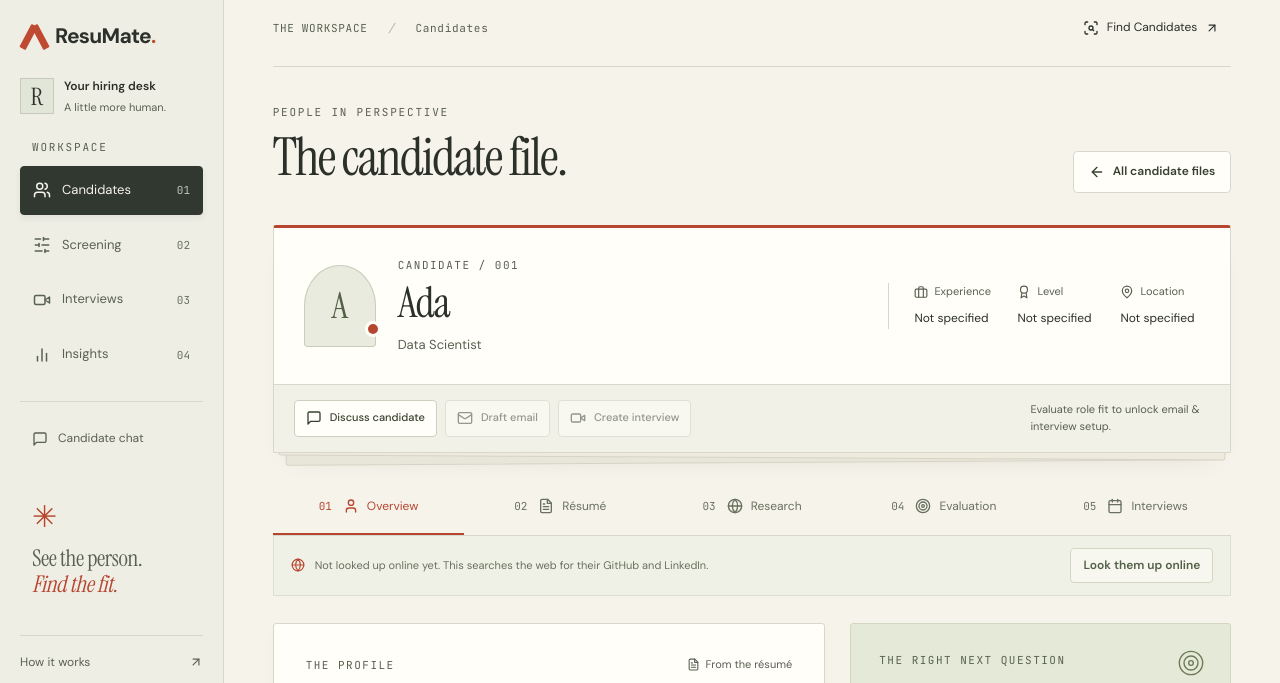
the candidate file › rejects an executable original-file link
Click the button "02 Résumé" at x=560, y=507, box [464,480,656,535]
(page scrolled)
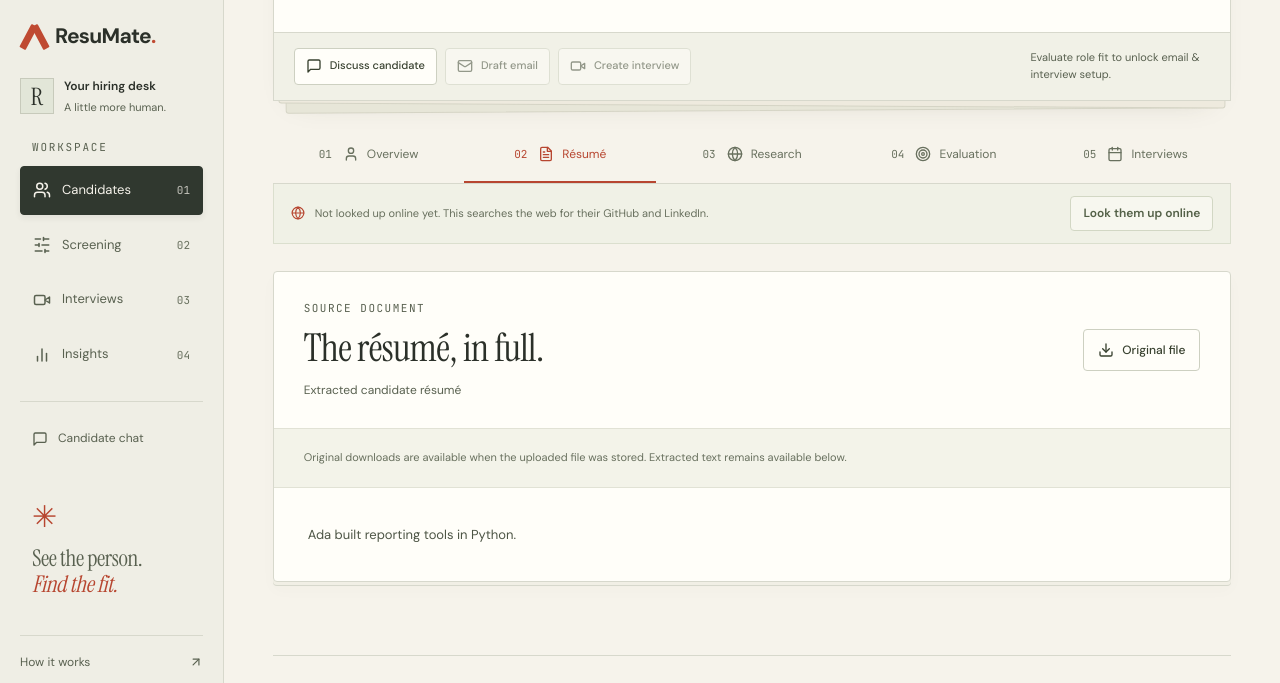
Click the button "Original file" at x=1142, y=350, box [1083,329,1200,371]
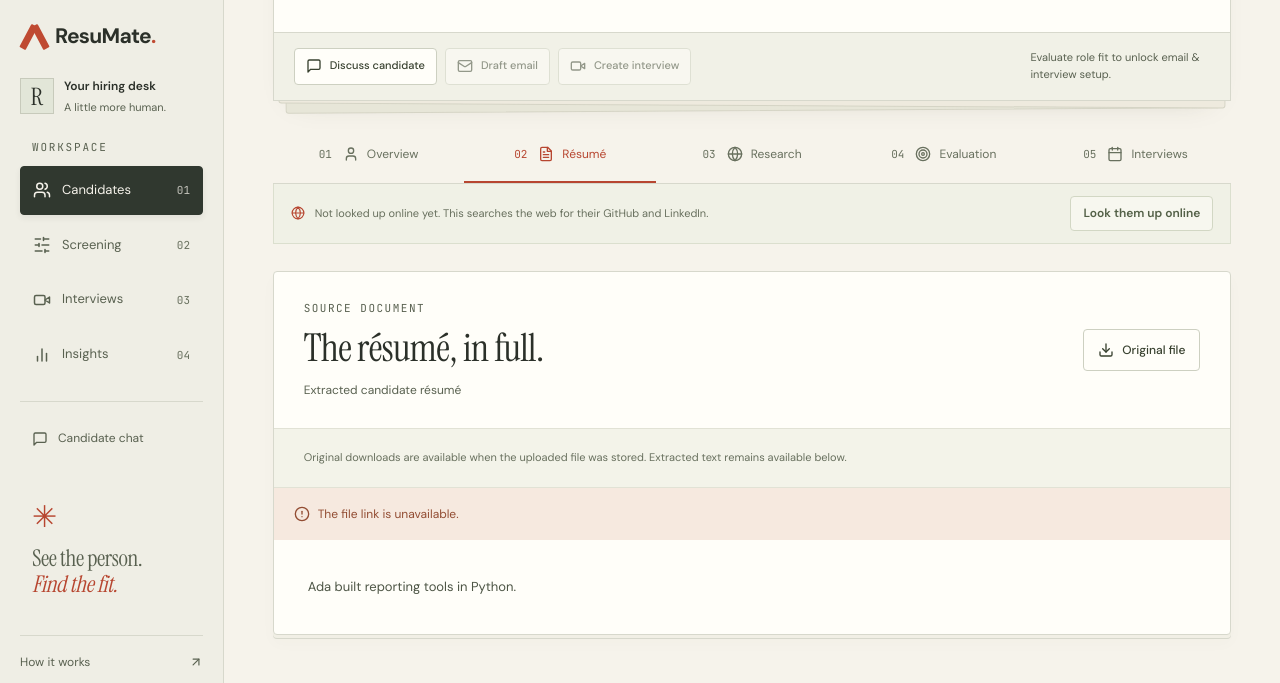
Expected: the text "The file link is unavailable." is shown, [274,488,1230,540]
